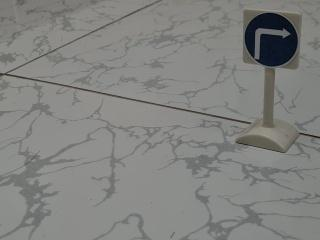right: (239, 5, 305, 71)
